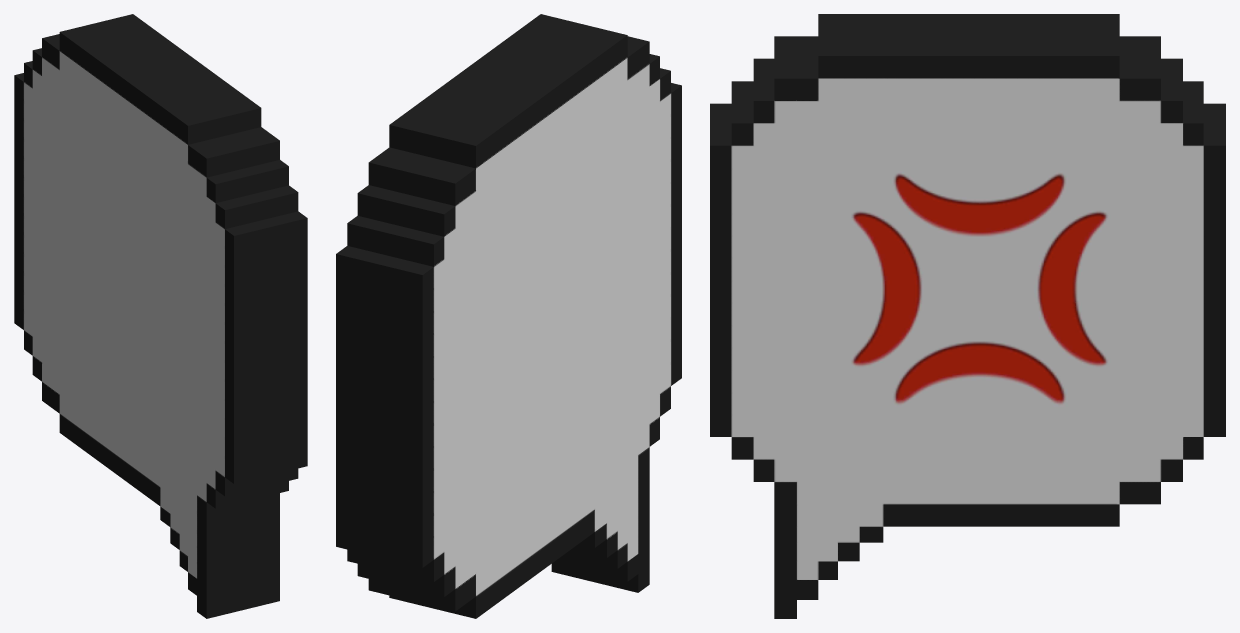
File: angry_speech.glb
3 renders of one model, left to right at view 1: azimuth 30°, elevation 25°; view 2: azimuth 150°, elevation 25°; view 3: azimuth 270°, elevation 25°, orthographic. The views are drawn at different scales.
Visible parts, largest first — view 1: Pixel_Speech_Bubbles_v4_001; view 2: Pixel_Speech_Bubbles_v4_001; view 3: Pixel_Speech_Bubbles_v4_001.
Boxes of the visible parts, <box> form: Pixel_Speech_Bubbles_v4_001: <box>14,14,307,618</box>; Pixel_Speech_Bubbles_v4_001: <box>336,14,681,618</box>; Pixel_Speech_Bubbles_v4_001: <box>710,14,1225,618</box>.
Size of the model in its own units: 0.00854 by 0.0532 by 0.0442.
1 material, 1 textured.
